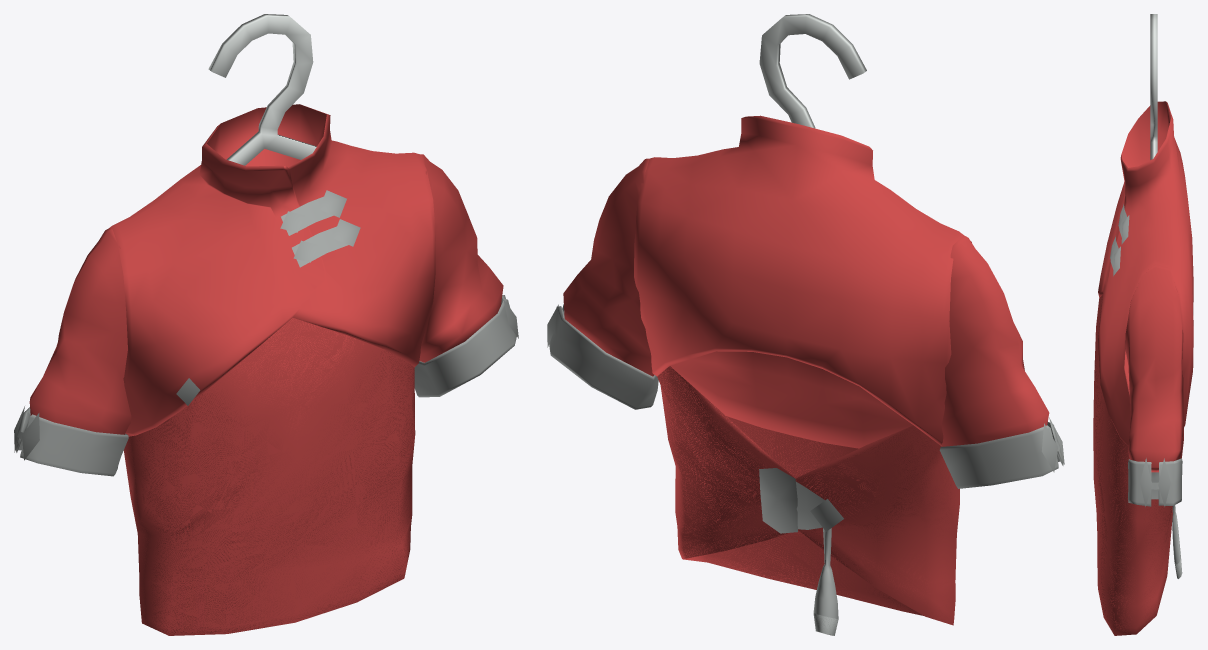
3 views of the same model, side by side, from view 1: azimuth 30°, elevation 25°; view 2: azimuth 150°, elevation 25°; view 3: azimuth 270°, elevation 25° (orthographic). The views are drawn at different scales.
Parts seen in each view (by area): view 1: G:\FFXIV-MapTools\exports\x6t1\bg\ex5\01_xkt_x6\twn\x6t1\bgp (×3); view 2: G:\FFXIV-MapTools\exports\x6t1\bg\ex5\01_xkt_x6\twn\x6t1\bgp (×3); view 3: G:\FFXIV-MapTools\exports\x6t1\bg\ex5\01_xkt_x6\twn\x6t1\bgp (×3).
Boxes of the visible parts, x1,y1,x2,y2 form: G:\FFXIV-MapTools\exports\x6t1\bg\ex5\01_xkt_x6\twn\x6t1\bgp (×3): (14, 14, 518, 635); G:\FFXIV-MapTools\exports\x6t1\bg\ex5\01_xkt_x6\twn\x6t1\bgp (×3): (547, 14, 1064, 635); G:\FFXIV-MapTools\exports\x6t1\bg\ex5\01_xkt_x6\twn\x6t1\bgp (×3): (1093, 14, 1193, 635).
Bounding box in the file's own units: 0.7812 × 0.8814 × 0.1407.
